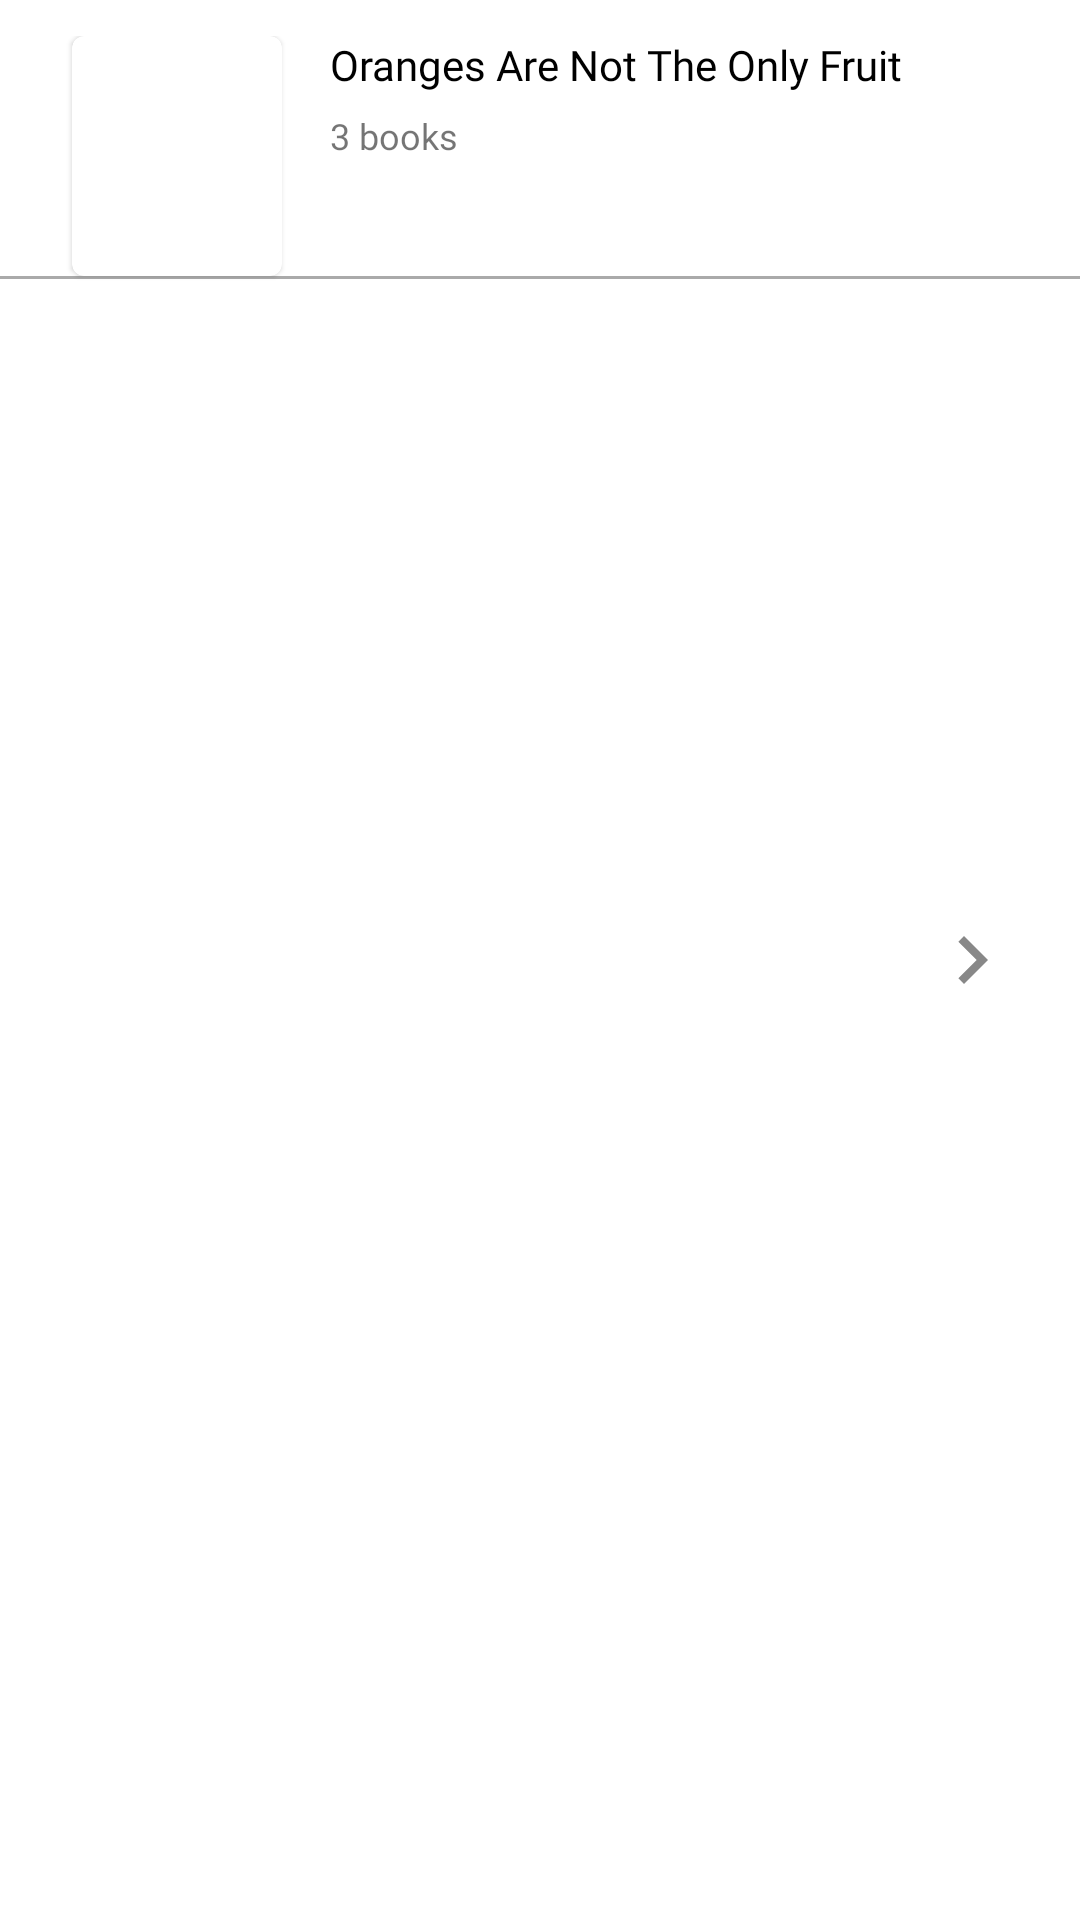

Named icons in this screenshot (1080w x 1920h) and their bounding boxes, (x1=x1, y1=y1, x2=x2, y2=y2):
chevron right: (x1=958, y1=936, x2=988, y2=984)
